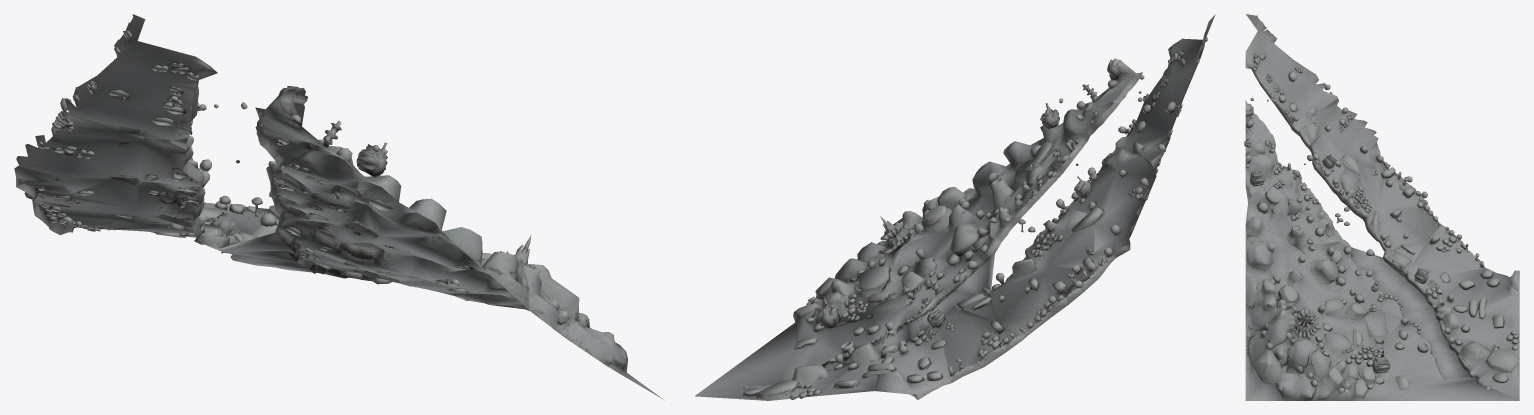
The model's file is VAL_Capital_Environment_Stream.glb.
3 views of the same model, side by side, from view 1: azimuth 30°, elevation 25°; view 2: azimuth 150°, elevation 25°; view 3: azimuth 270°, elevation 25° (orthographic). The views are drawn at different scales.
Parts seen in each view (by area): view 1: tripo_node_ff1ec541-6f90-4dc5-8b9f-8aab2e7f924b; view 2: tripo_node_ff1ec541-6f90-4dc5-8b9f-8aab2e7f924b; view 3: tripo_node_ff1ec541-6f90-4dc5-8b9f-8aab2e7f924b.
Part boxes in pixels (<box>): tripo_node_ff1ec541-6f90-4dc5-8b9f-8aab2e7f924b: <box>14,14,664,400</box>; tripo_node_ff1ec541-6f90-4dc5-8b9f-8aab2e7f924b: <box>695,14,1215,400</box>; tripo_node_ff1ec541-6f90-4dc5-8b9f-8aab2e7f924b: <box>1244,14,1519,400</box>.
Bounding box in the file's own units: 0.998 × 0.916 × 0.8848.
Materials: 1 (1 with a texture image).
